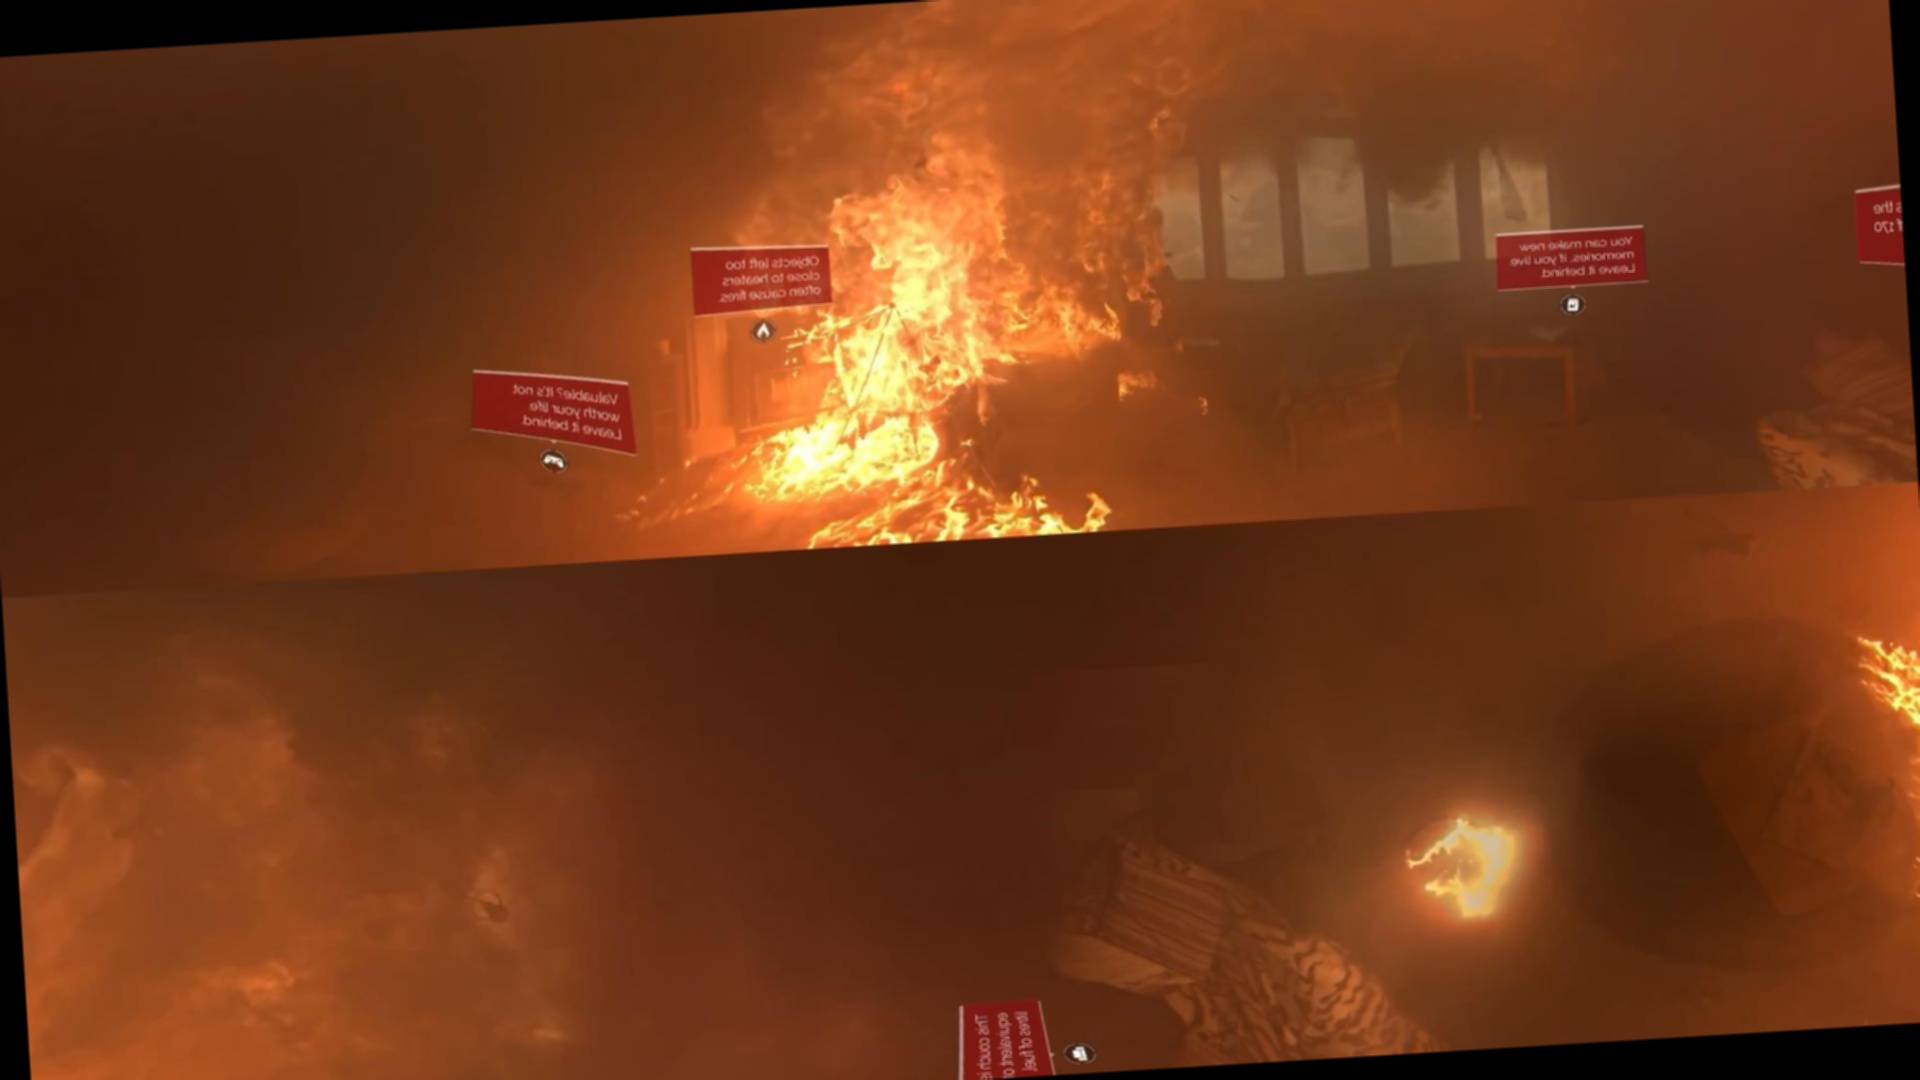fire: (702, 0, 1221, 549)
